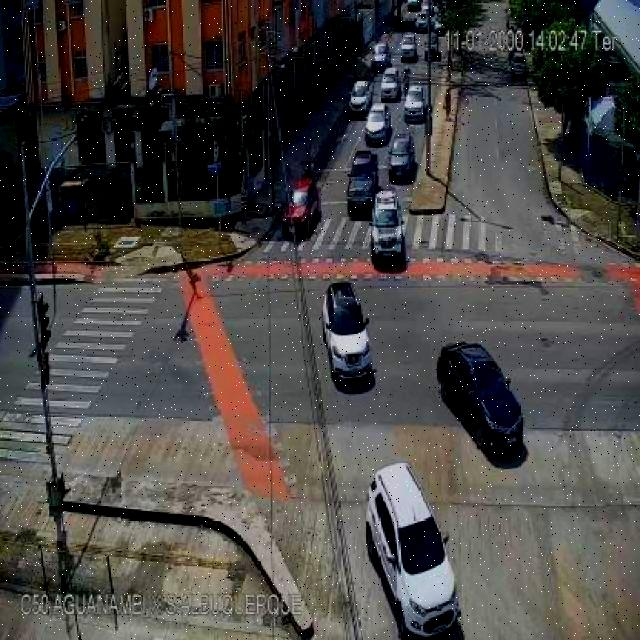Car: (364, 461, 460, 637), (437, 343, 525, 465), (320, 281, 372, 390), (369, 191, 407, 268), (346, 151, 378, 215), (388, 132, 414, 179), (364, 103, 390, 144), (348, 80, 374, 115), (403, 85, 426, 122), (380, 68, 400, 101), (372, 43, 391, 72), (509, 51, 527, 79), (400, 34, 418, 62), (424, 34, 441, 61), (415, 12, 430, 33)
